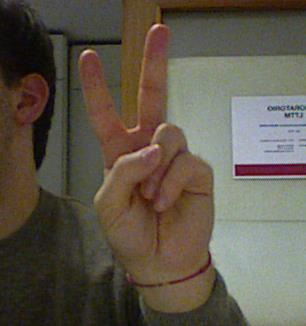front: (74, 22, 215, 288)
